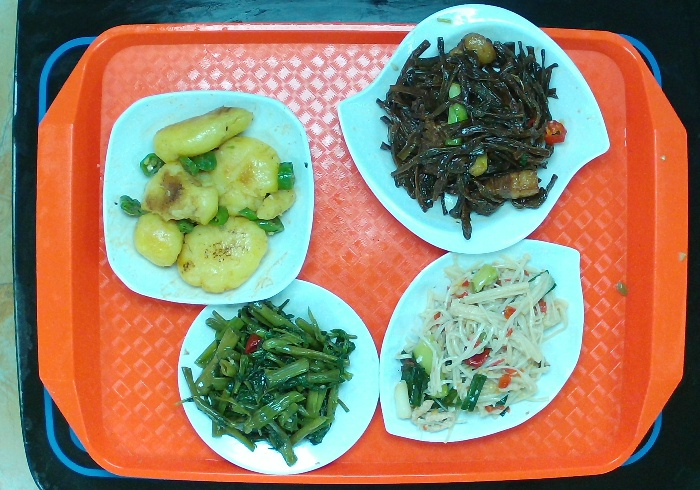RJxy-Da_Du_Pan: (373, 226, 588, 448)
RJxy-Shuang_Jiao_Pan: (330, 3, 616, 260)
RJxy-Si_Fang_Wan: (92, 81, 323, 305)
RJxy-Xiao_Yuan_Die: (174, 269, 382, 476)
